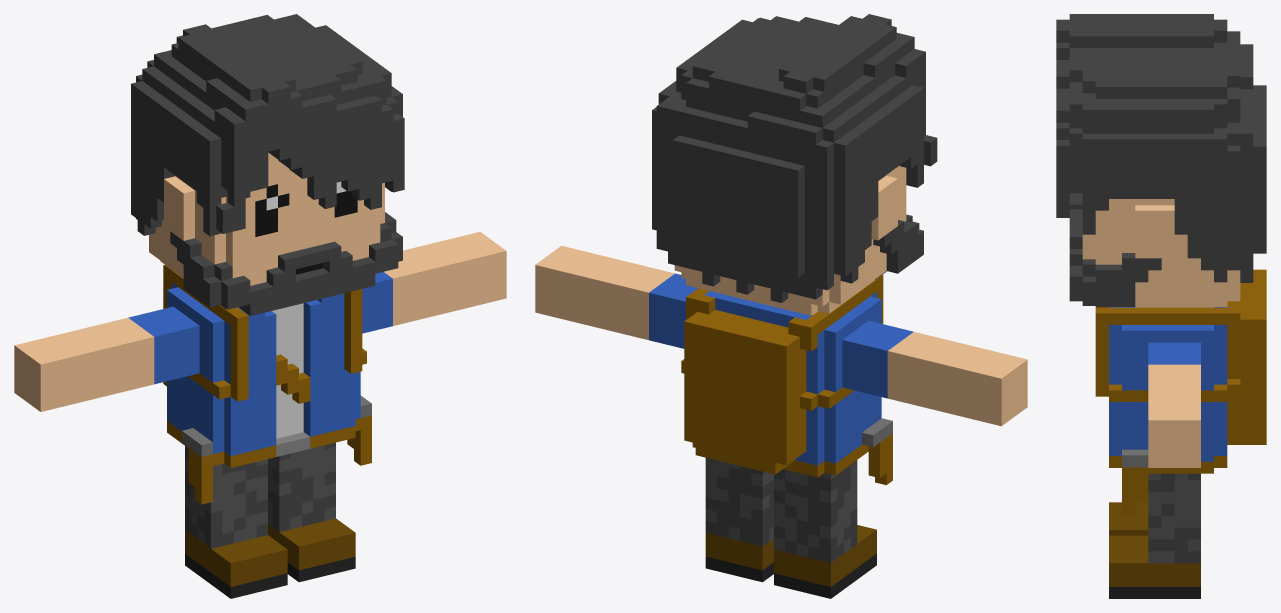
File: Jack.glb
3 views of the same model, side by side, from view 1: azimuth 30°, elevation 25°; view 2: azimuth 150°, elevation 25°; view 3: azimuth 270°, elevation 25° (orthographic).
Parts seen in each view (by area): view 1: Untitled; view 2: Untitled; view 3: Untitled.
Part boxes in pixels (x1,y1,x2,y2): Untitled: [14, 14, 506, 598]; Untitled: [535, 14, 1027, 598]; Untitled: [1056, 14, 1266, 598].
Size of the model in its own units: 4.1 by 4.4 by 1.6.
Materials: 1 (1 with a texture image).
